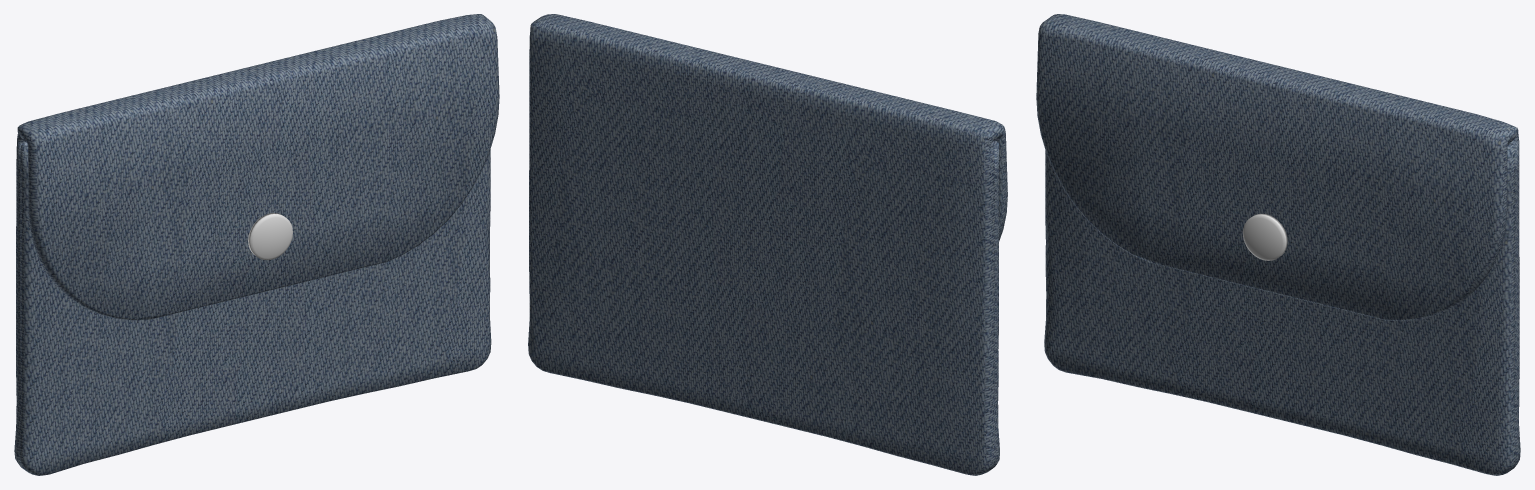
File: cardcase.glb
The picture shows the model from 3 angles, left to right: view 1: azimuth 30°, elevation 25°; view 2: azimuth 150°, elevation 25°; view 3: azimuth 330°, elevation 25°; orthographic projection.
Visible parts, largest first — view 1: uiy, Sphere; view 2: uiy; view 3: uiy, Sphere.
Part boxes in pixels (x1=…): uiy: x1=14, y1=14, x2=499, y2=475; Sphere: x1=248, y1=213, x2=292, y2=260; uiy: x1=528, y1=14, x2=1007, y2=475; uiy: x1=1036, y1=14, x2=1520, y2=475; Sphere: x1=1242, y1=213, x2=1287, y2=260.
Bounding box in the file's own units: 10.05 × 7.16 × 1.03.
Materials: 2 (1 with a texture image).
